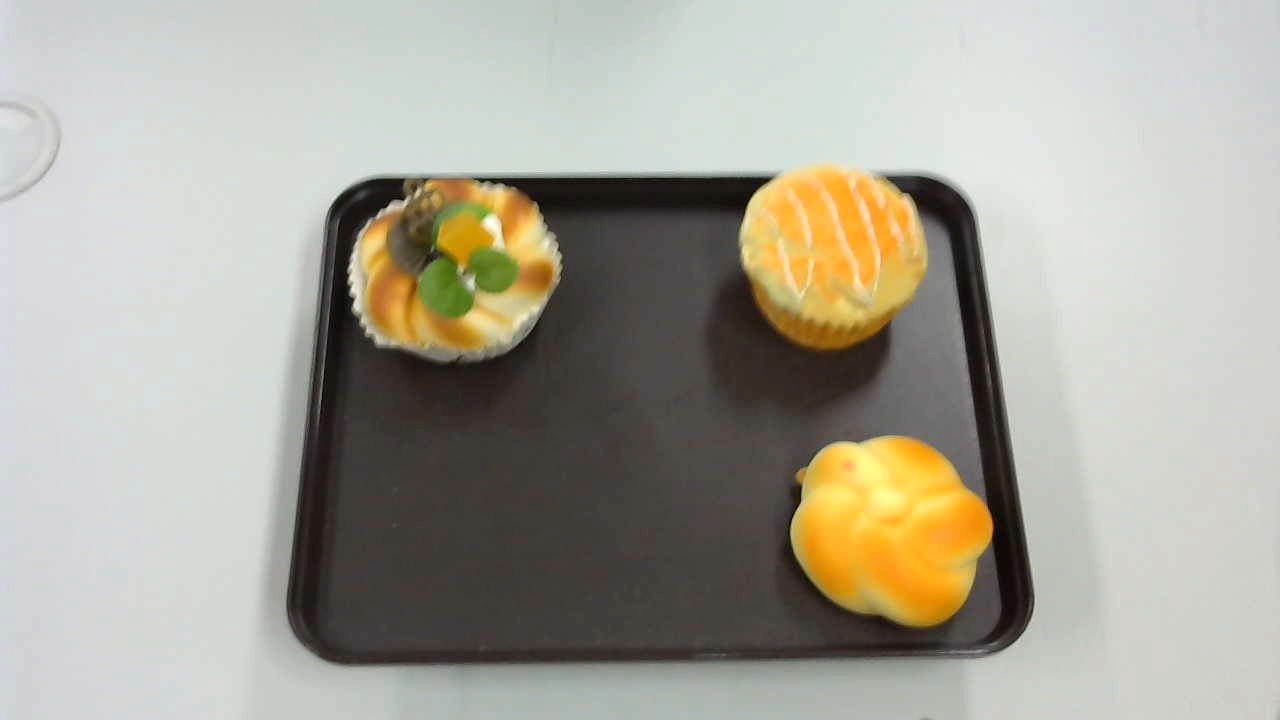croissant: (790, 437, 994, 628)
cupcake: (737, 158, 928, 354)
fruit tart: (345, 177, 565, 367)
